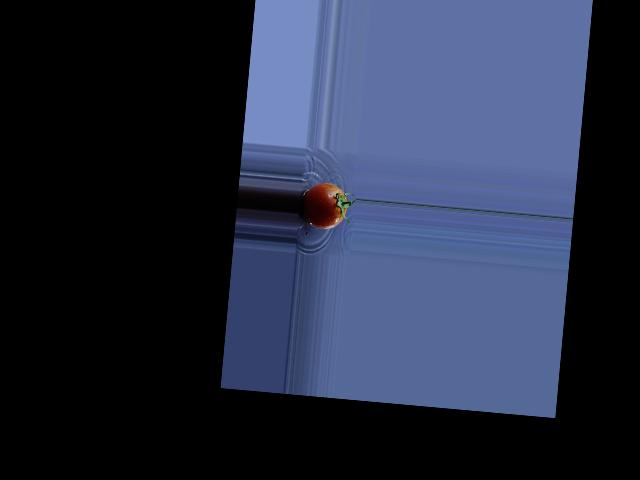tomato: (300, 181, 348, 230)
